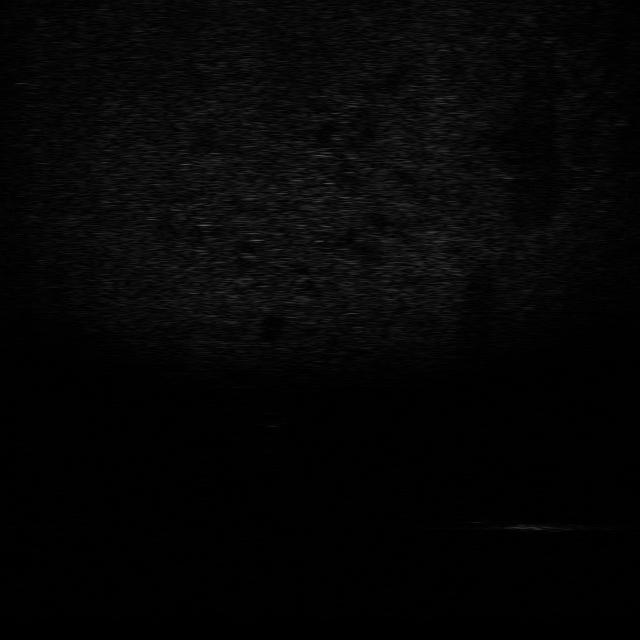ball: (255, 408, 291, 428)
metal bucket: (506, 517, 594, 535)
tyre: (452, 491, 507, 532)
